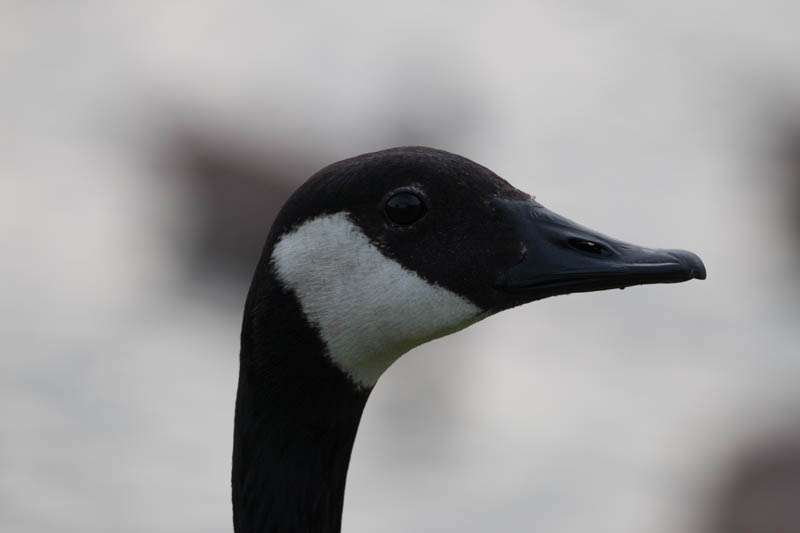goose-head: (239, 145, 707, 391)
